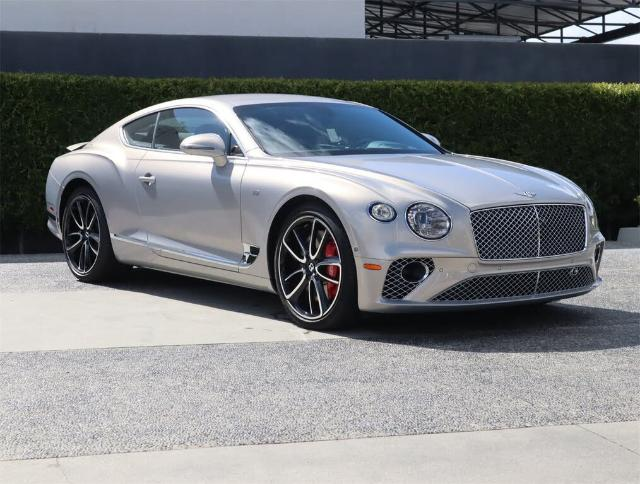bentley: (44, 92, 606, 330)
